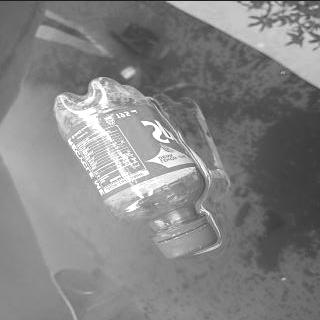bottle: (54, 75, 220, 258)
